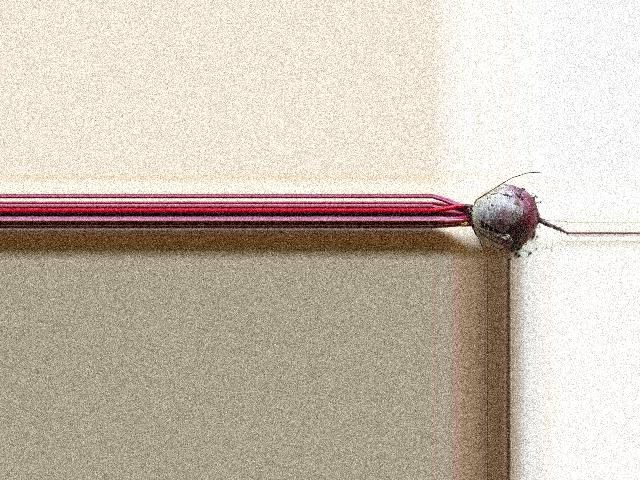beet: (433, 171, 569, 251)
